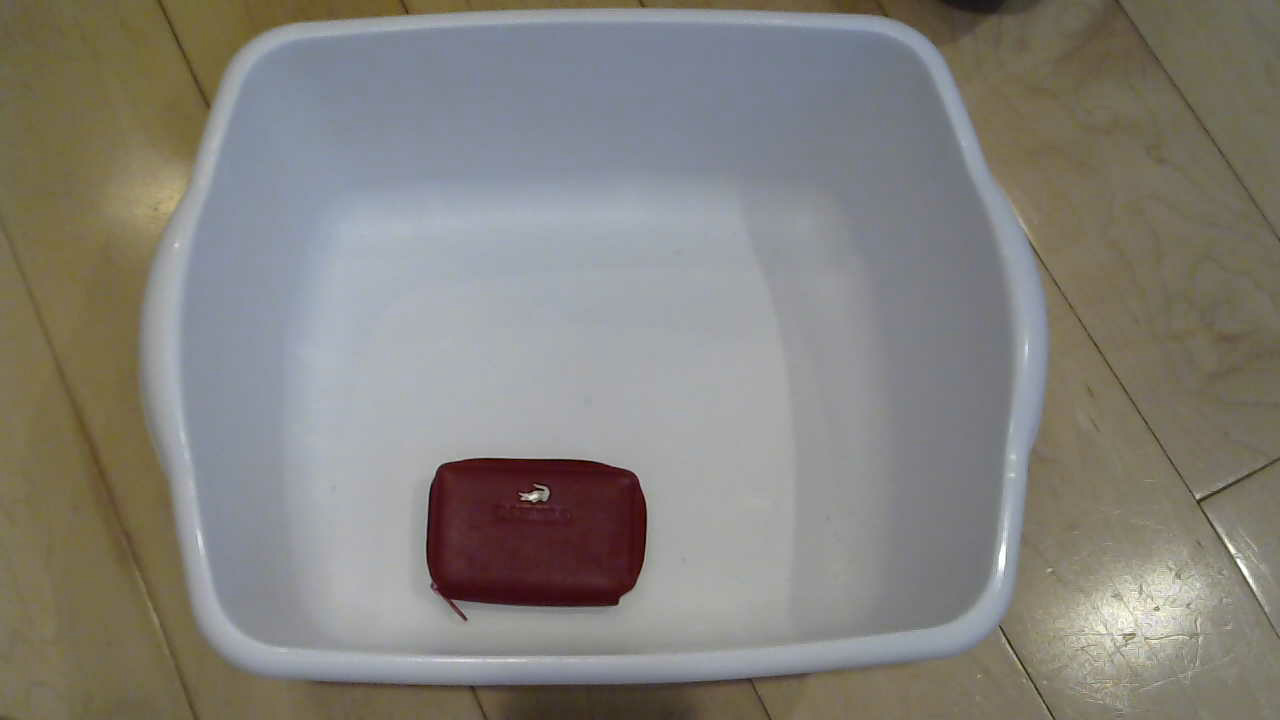wallet: (409, 442, 666, 634)
